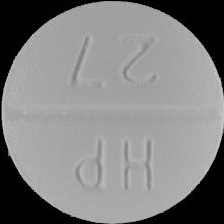50090-0156: (0, 0, 224, 224)
